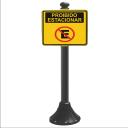NoEstacionar: (54, 25, 78, 46)
